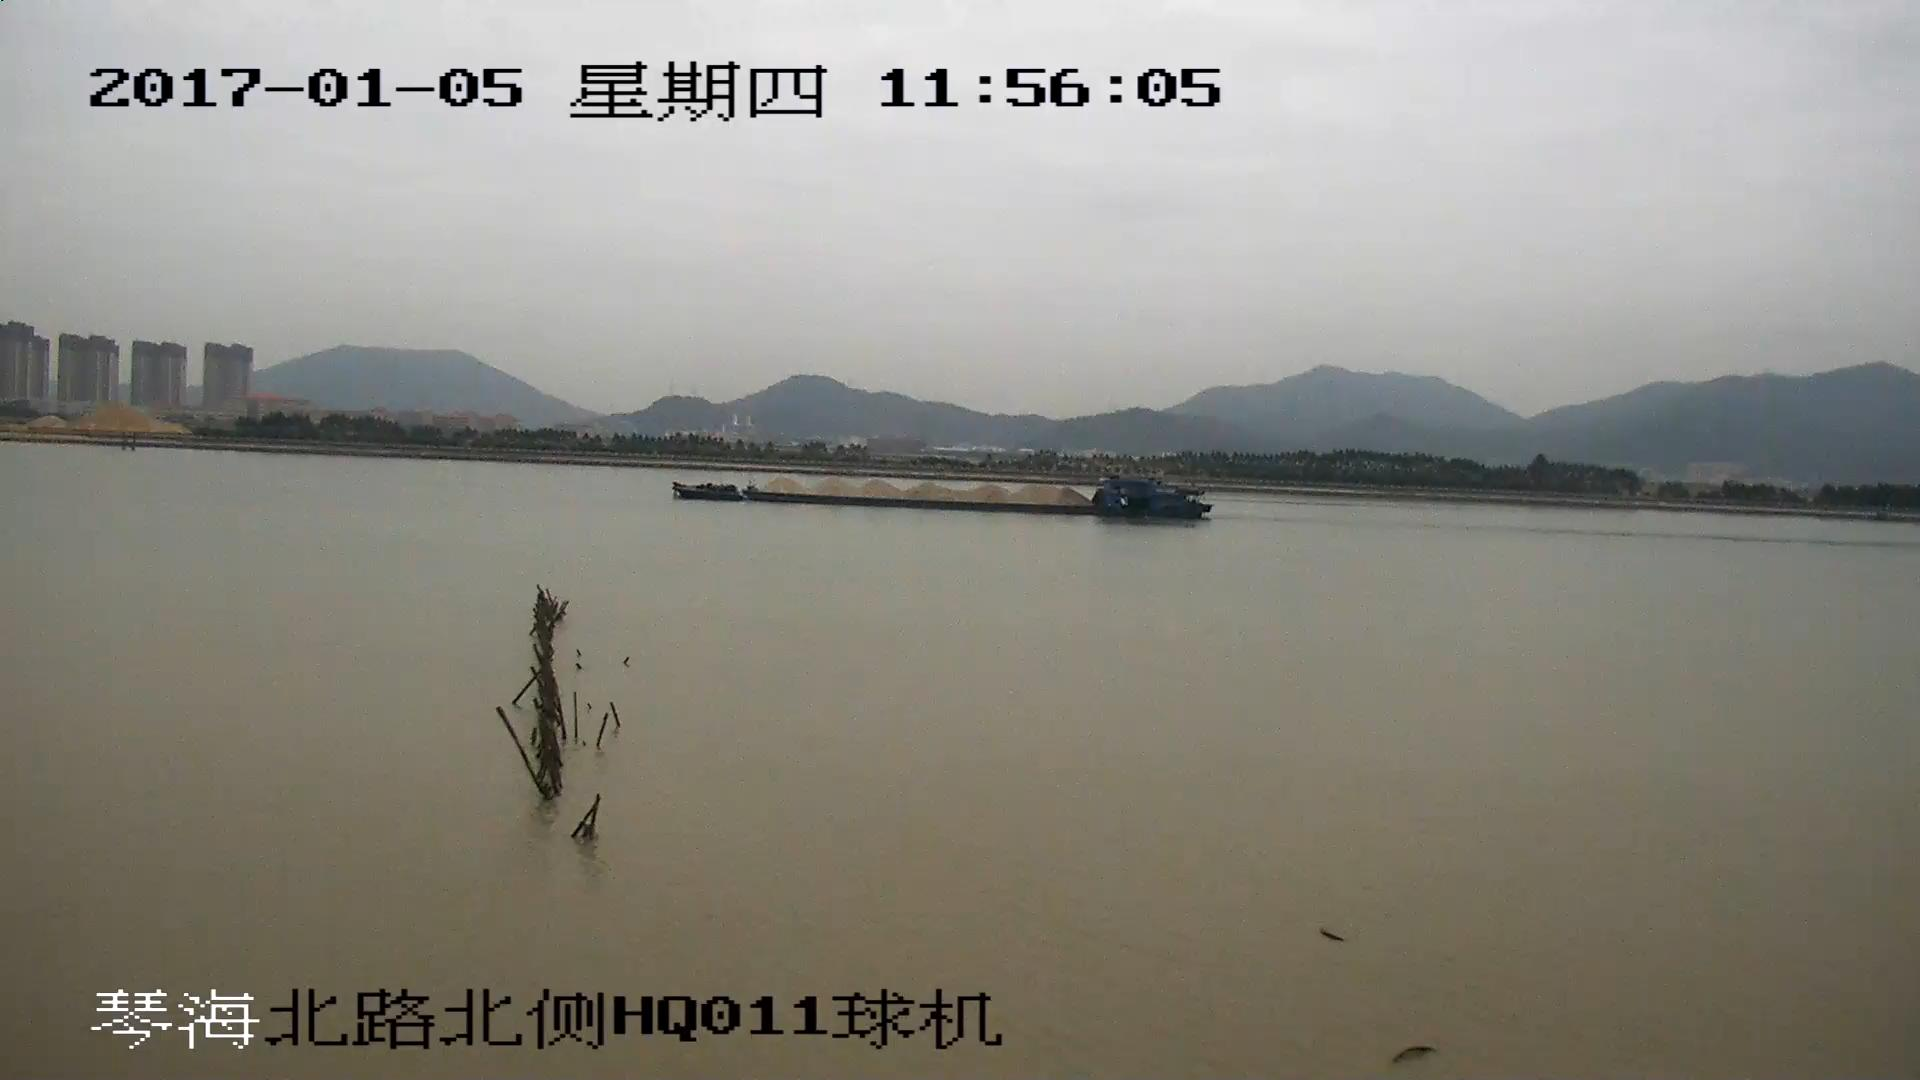ore carrier: (674, 474, 1210, 524)
